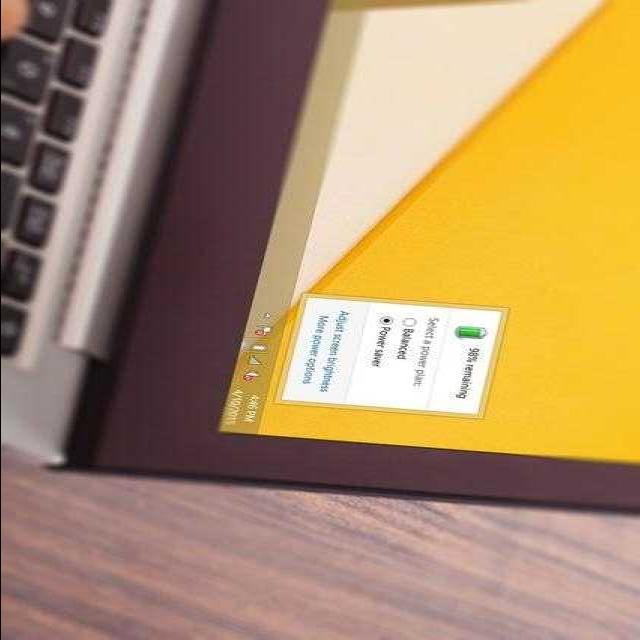laptop: (0, 0, 638, 518)
